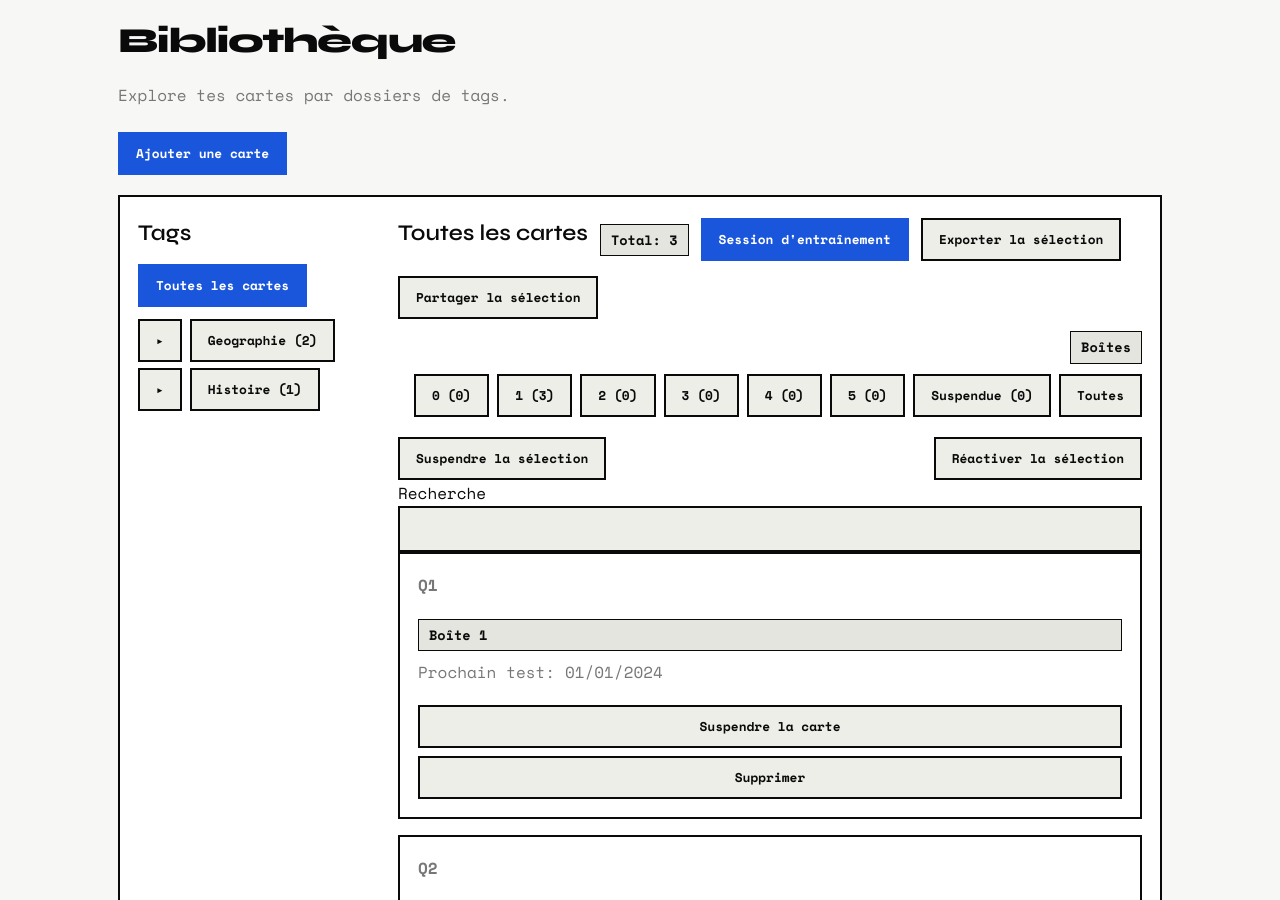
it: Library delete by tag › search also matches tags
Check: the heading "Bibliothèque" is shown, box [118,19,455,62]
Type "Histoire" into the field labelled "Recherche" at (770, 529), box [398,506,1142,552]
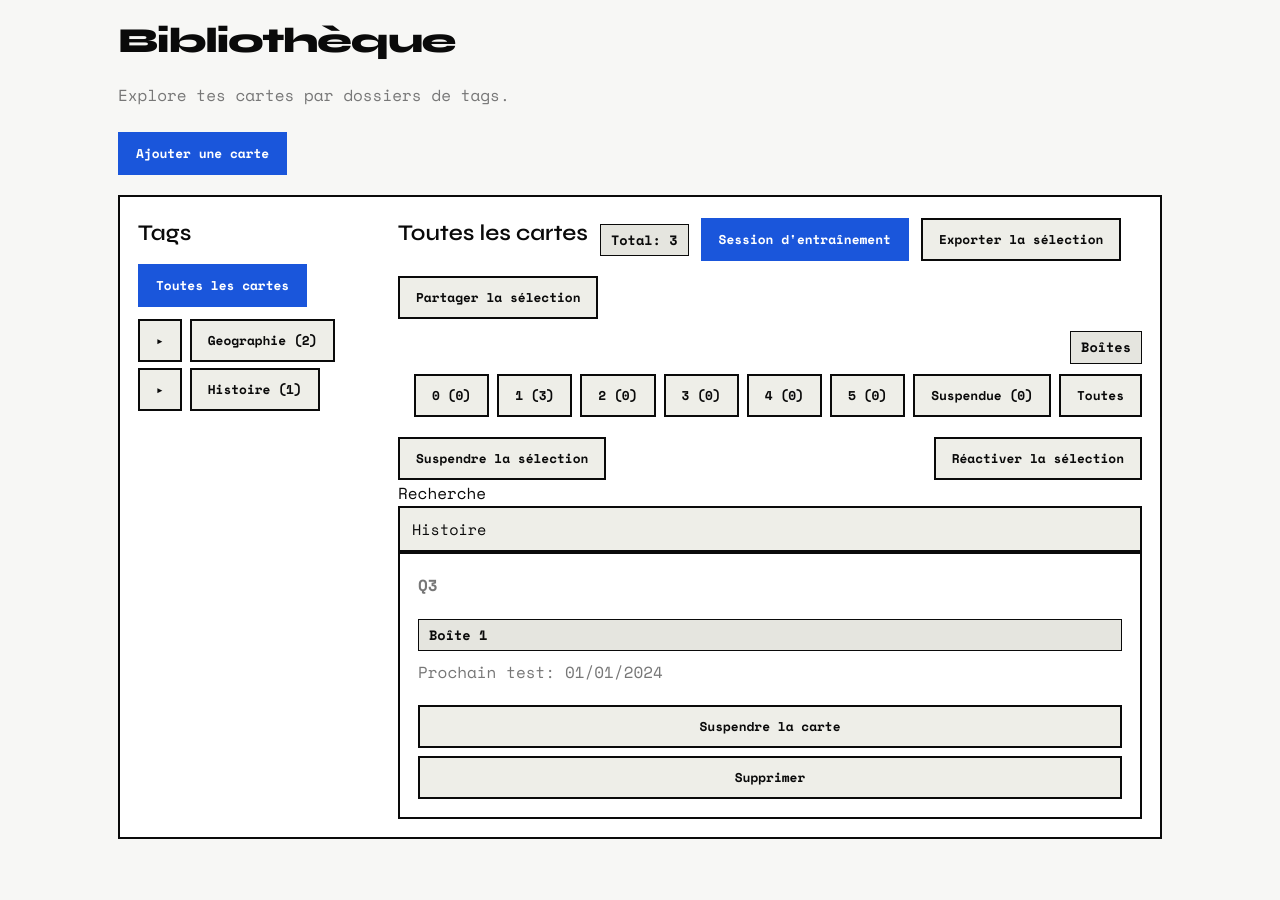
Check: the text "Q3" is shown, box [418,573,438,597]
Check: the link "Q1" is gone
Check: the link "Q2" is gone
